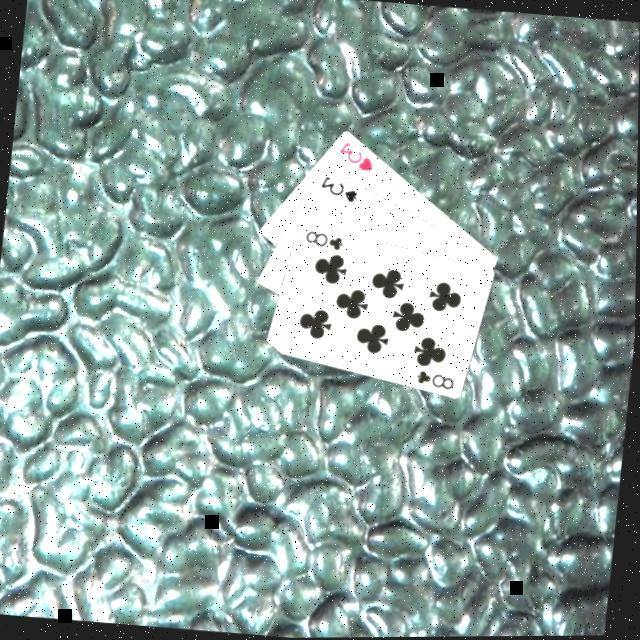3H: (332, 139, 377, 177)
3S: (316, 174, 360, 208)
8C: (300, 228, 346, 255), (411, 368, 457, 394)
